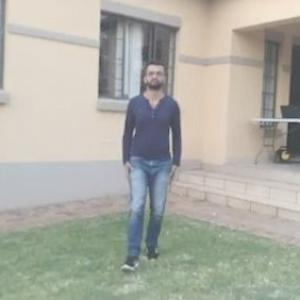follow: (123, 53, 183, 233)
